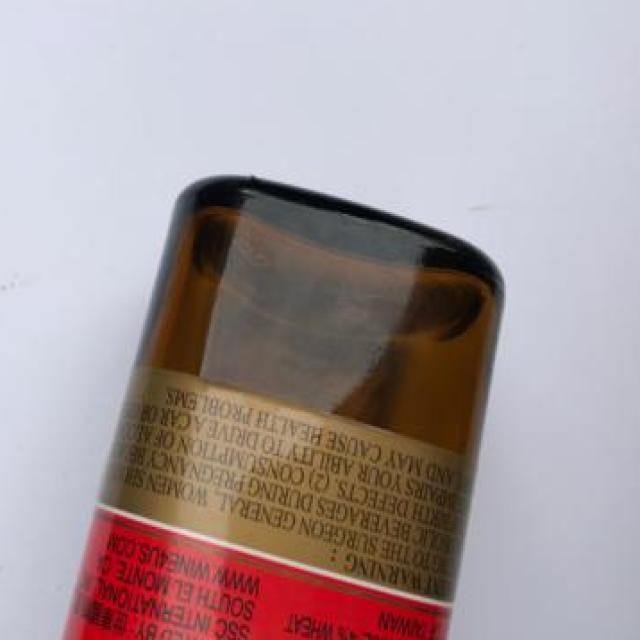organic: (69, 151, 498, 636)
